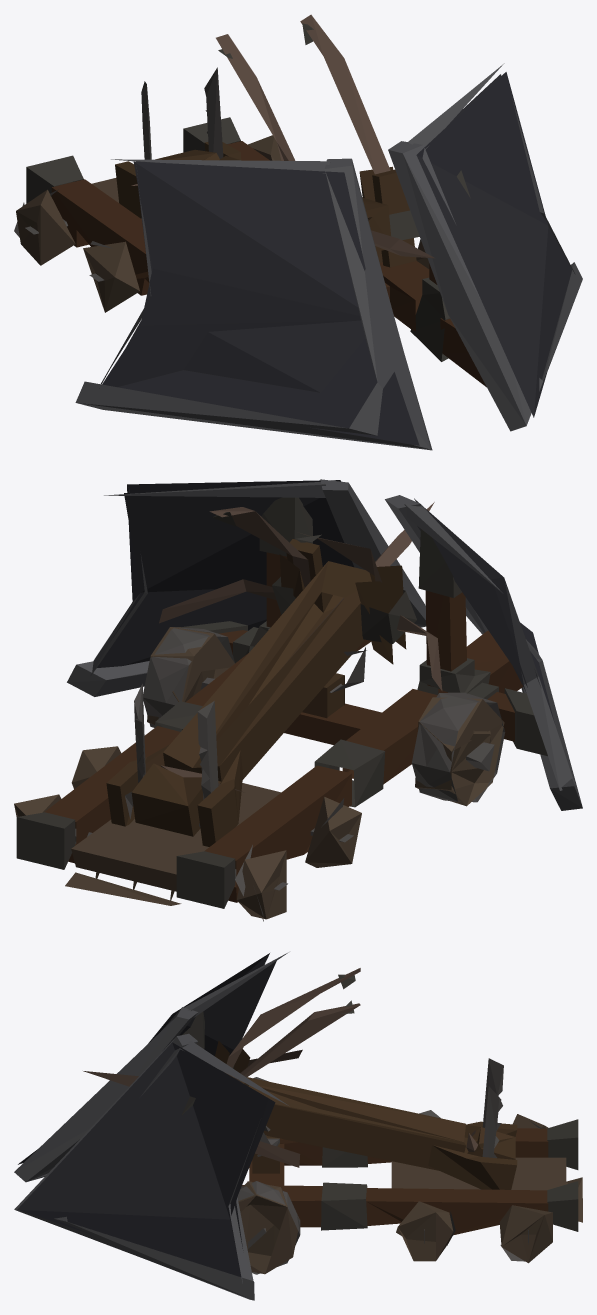
The model's file is ballista-b.lod1.glb.
3 renders of one model, top to bottom at view 1: azimuth 30°, elevation 25°; view 2: azimuth 150°, elevation 25°; view 3: azimuth 270°, elevation 25°, orthographic. The views are drawn at different scales.
Visible parts, largest first — view 1: Metalic_shield_frame_Metalic_Shield_0; view 2: Metalic_shield_frame_Metalic_Shield_0; view 3: Metalic_shield_frame_Metalic_Shield_0.
Boxes of the visible parts, box(x1,y1,x2,y2) form: Metalic_shield_frame_Metalic_Shield_0: box(14, 14, 582, 450); Metalic_shield_frame_Metalic_Shield_0: box(14, 479, 582, 921); Metalic_shield_frame_Metalic_Shield_0: box(14, 952, 582, 1300).
Bounding box in the file's own units: 3.42 × 1.84 × 4.12.
